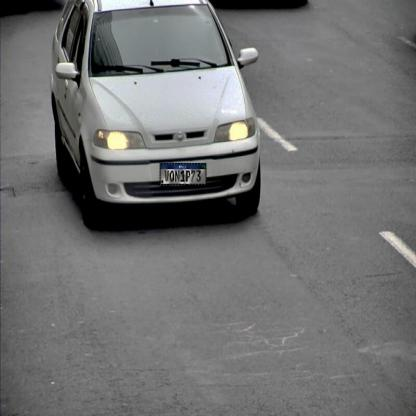PlacaM: (160, 163, 206, 185)
